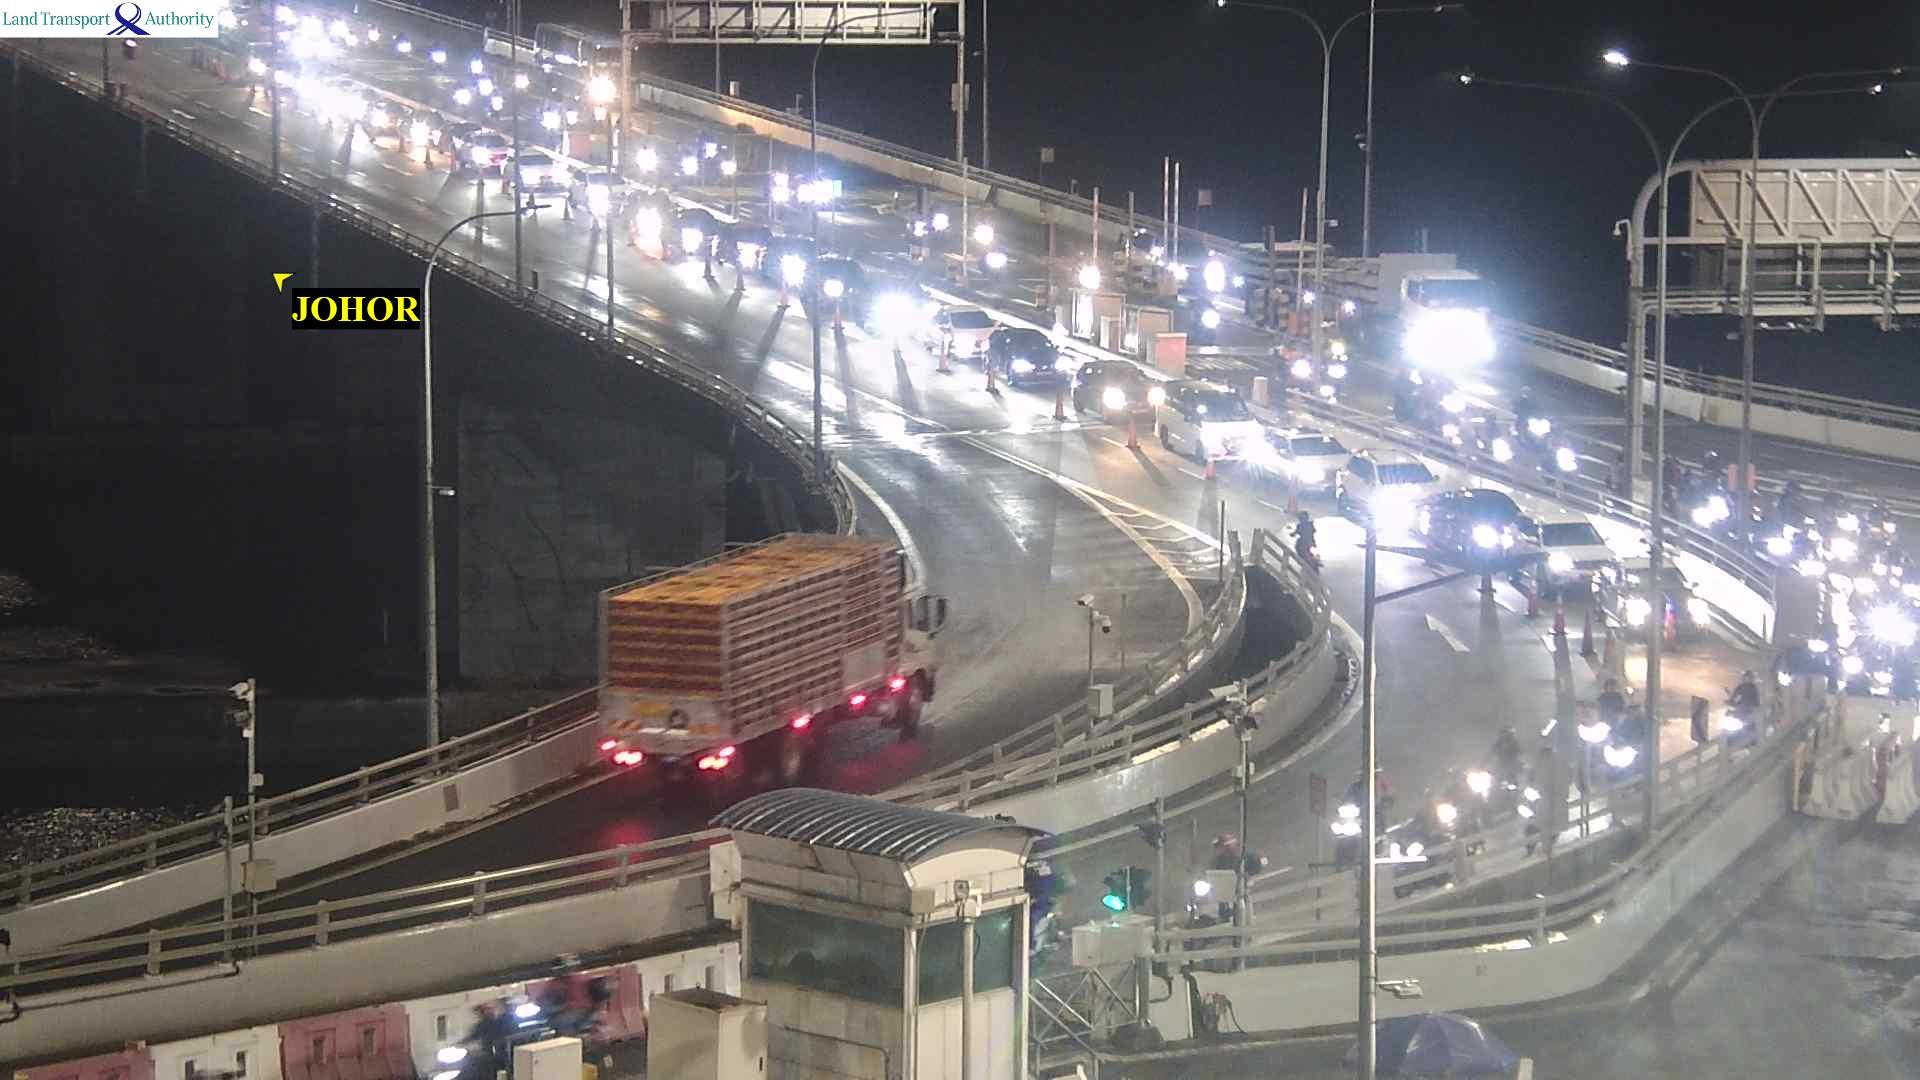vehicle-secondlink-johor: (599, 526, 940, 760), (444, 1007, 543, 1080)
vehicle-secondlink-singapore: (1299, 249, 1515, 345), (534, 21, 641, 109), (1593, 562, 1706, 634), (1162, 378, 1263, 459), (1489, 521, 1642, 574), (1329, 455, 1461, 516), (1237, 439, 1367, 497), (1414, 493, 1543, 550), (1126, 224, 1212, 291), (1075, 355, 1163, 418), (986, 328, 1068, 381), (916, 311, 1006, 356), (862, 273, 938, 326), (802, 257, 874, 310), (446, 133, 514, 181), (1399, 372, 1464, 422), (760, 237, 831, 278), (1684, 451, 1726, 513), (670, 202, 720, 251), (572, 169, 632, 208), (1437, 413, 1503, 448), (1721, 669, 1759, 729), (1776, 483, 1817, 537), (911, 214, 953, 265), (1513, 389, 1552, 435), (506, 157, 567, 185), (365, 100, 413, 135), (1548, 423, 1576, 481), (715, 225, 769, 253), (1832, 489, 1857, 537), (1861, 493, 1891, 531), (436, 123, 483, 148), (247, 42, 281, 75), (404, 111, 440, 137), (637, 142, 665, 177), (674, 145, 696, 175), (702, 136, 720, 162), (396, 33, 411, 58), (448, 80, 464, 102), (476, 71, 492, 92), (431, 44, 446, 66), (468, 53, 483, 71), (365, 25, 377, 45), (489, 92, 501, 109)
